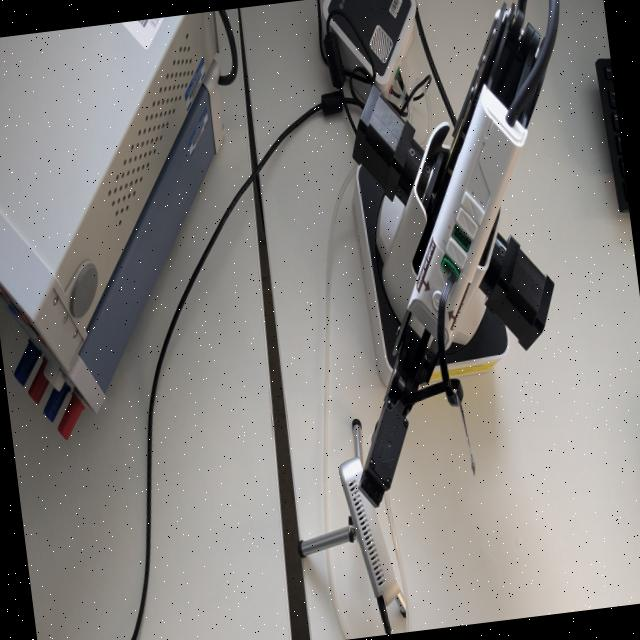Robot-end-effector-HF8z: (345, 386, 422, 511)
